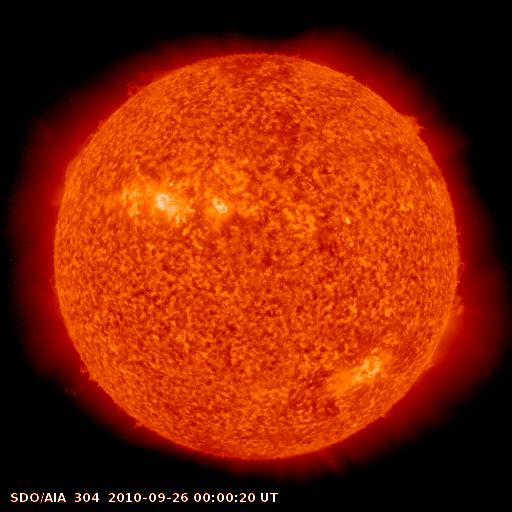prominence: (59, 115, 106, 190), (441, 255, 481, 324), (391, 99, 439, 150), (65, 351, 111, 401), (120, 62, 172, 105)
